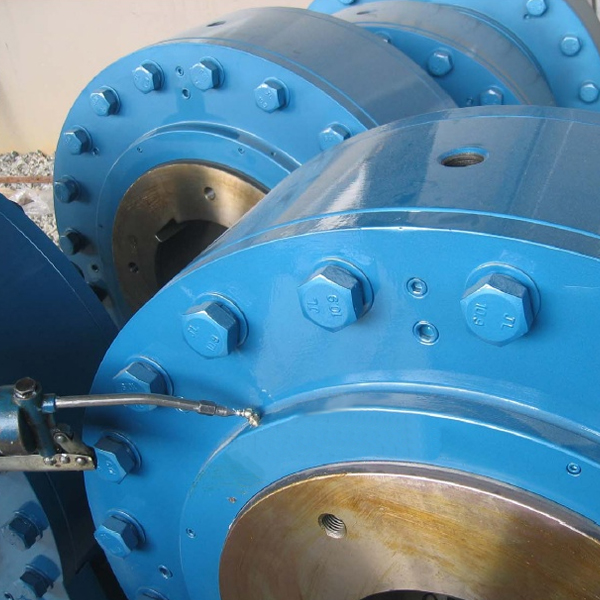bolt_a: (455, 271, 537, 349), (292, 261, 366, 335), (177, 300, 242, 361), (107, 358, 168, 416), (82, 434, 138, 486), (90, 513, 141, 561), (249, 76, 288, 118), (185, 56, 221, 93), (129, 60, 163, 96), (316, 123, 351, 157), (85, 86, 120, 118), (61, 124, 91, 157)
vague: (2, 514, 37, 552), (10, 567, 50, 598), (50, 174, 83, 206), (423, 46, 455, 79), (52, 228, 85, 258), (476, 84, 507, 115), (557, 32, 582, 59)
